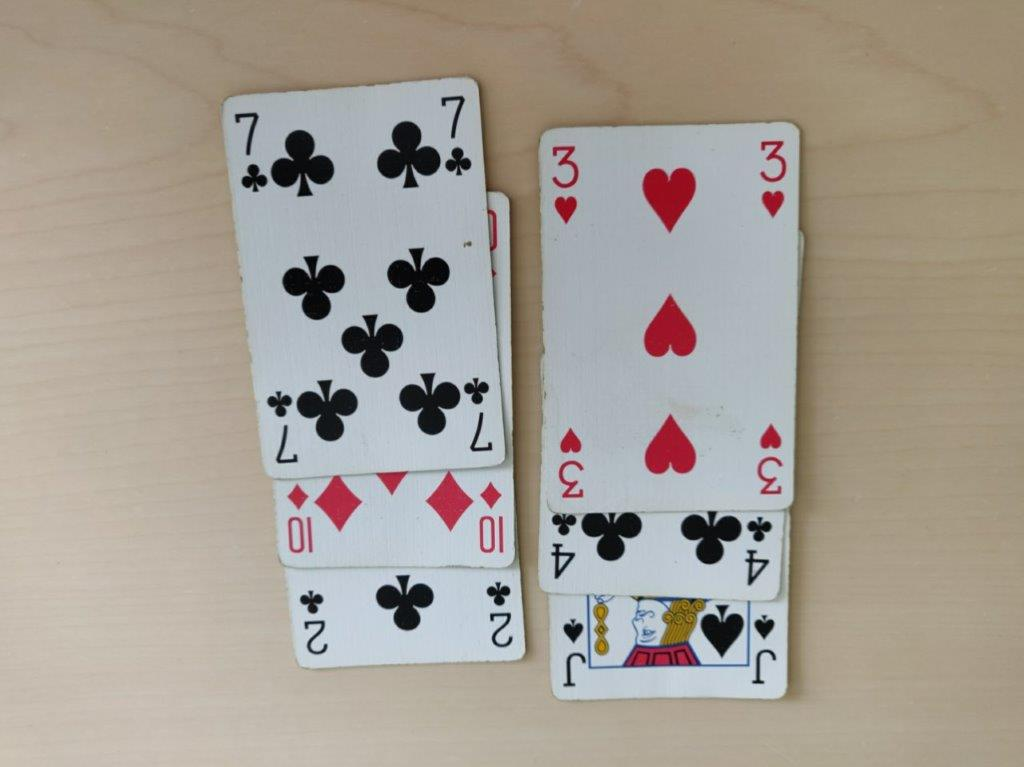10D: (278, 464, 512, 564)
2C: (289, 564, 525, 667)
3H: (543, 123, 790, 509)
4C: (542, 509, 784, 599)
7C: (221, 94, 498, 467)
JS: (547, 593, 789, 697)
